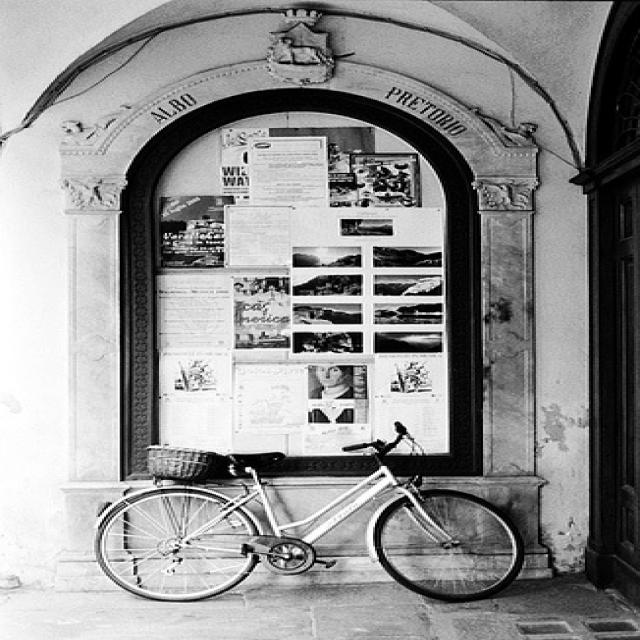bicycle: (92, 421, 524, 602)
